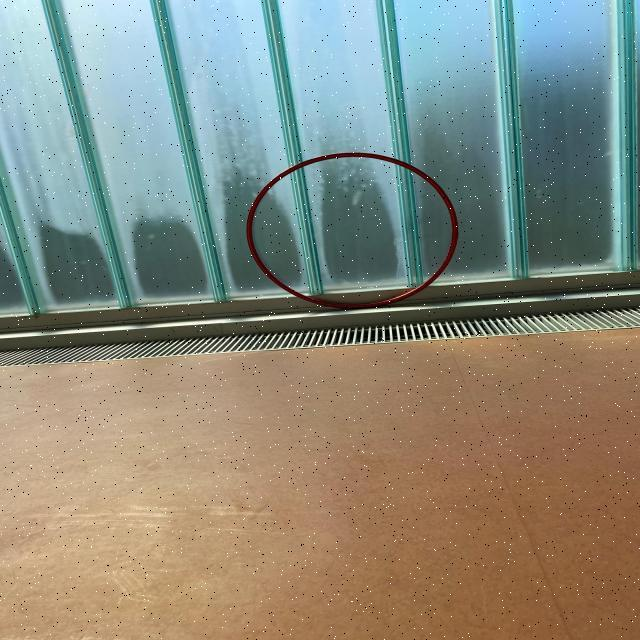Circle: (246, 148, 463, 314)
